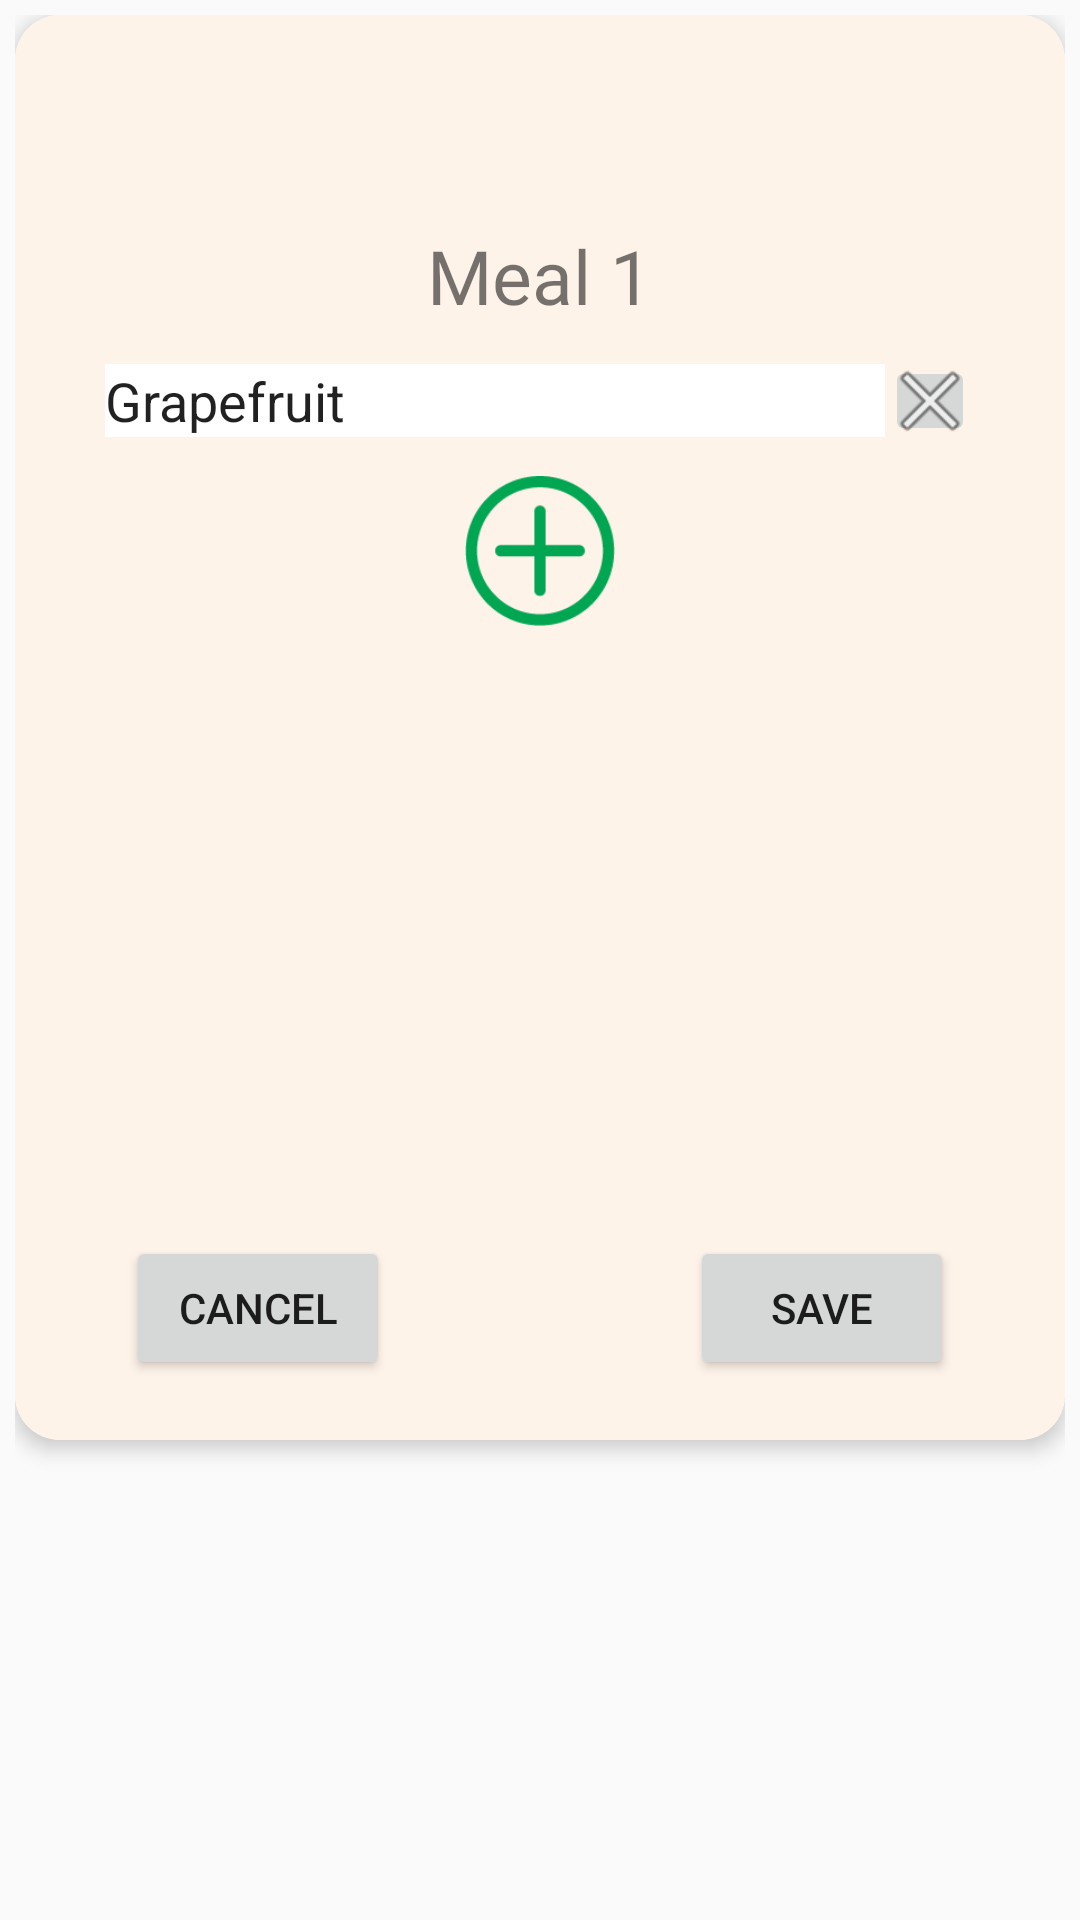

Where to tap for icons on this 1080w x 1920h app screen, as (x,y):
add: (540,551)
close clear cancel: (930,401)
